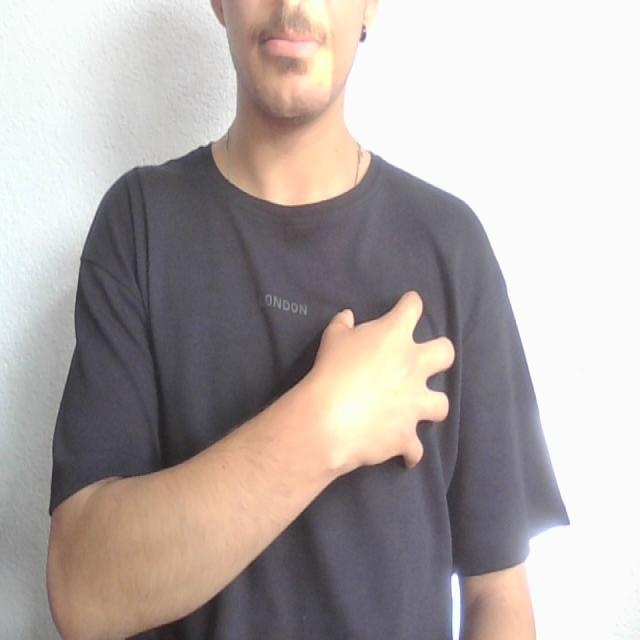Anne: (138, 280, 482, 488)
